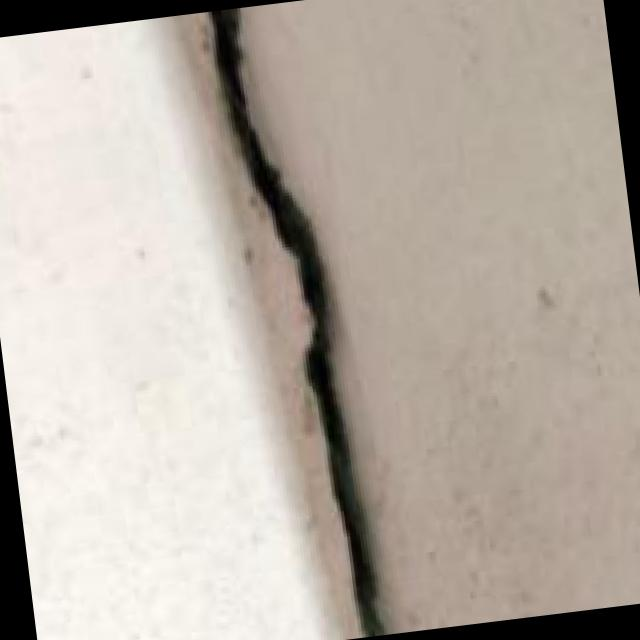crack: (93, 0, 463, 640)
